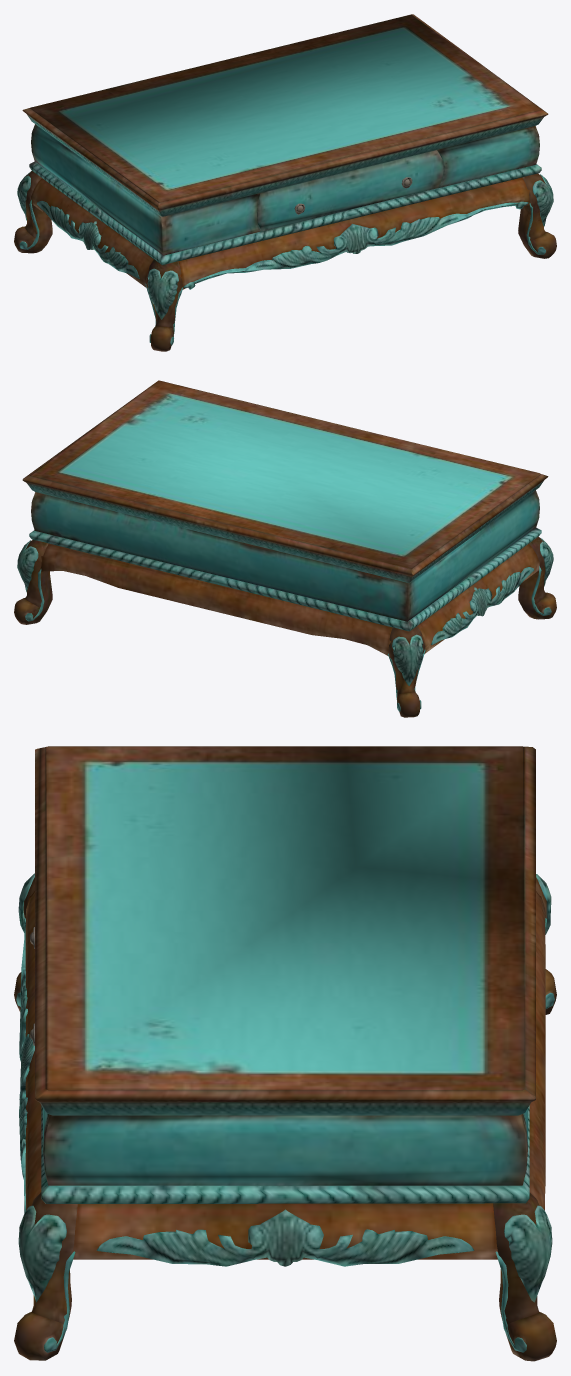
The model's file is CoffeeTable_01_1k.gltf.
The picture shows the model from 3 angles, top to bottom: view 1: azimuth 30°, elevation 25°; view 2: azimuth 150°, elevation 25°; view 3: azimuth 270°, elevation 25°; orthographic projection. The views are drawn at different scales.
Parts seen in each view (by area): view 1: CoffeeTable_01; view 2: CoffeeTable_01; view 3: CoffeeTable_01.
Part boxes in pixels (x1,y1,x2,y2): CoffeeTable_01: [14, 14, 556, 351]; CoffeeTable_01: [14, 380, 556, 717]; CoffeeTable_01: [14, 746, 556, 1361].
Bounding box in the file's own units: 1.54 × 0.5232 × 0.9728.
Materials: 1 (1 with a texture image).
